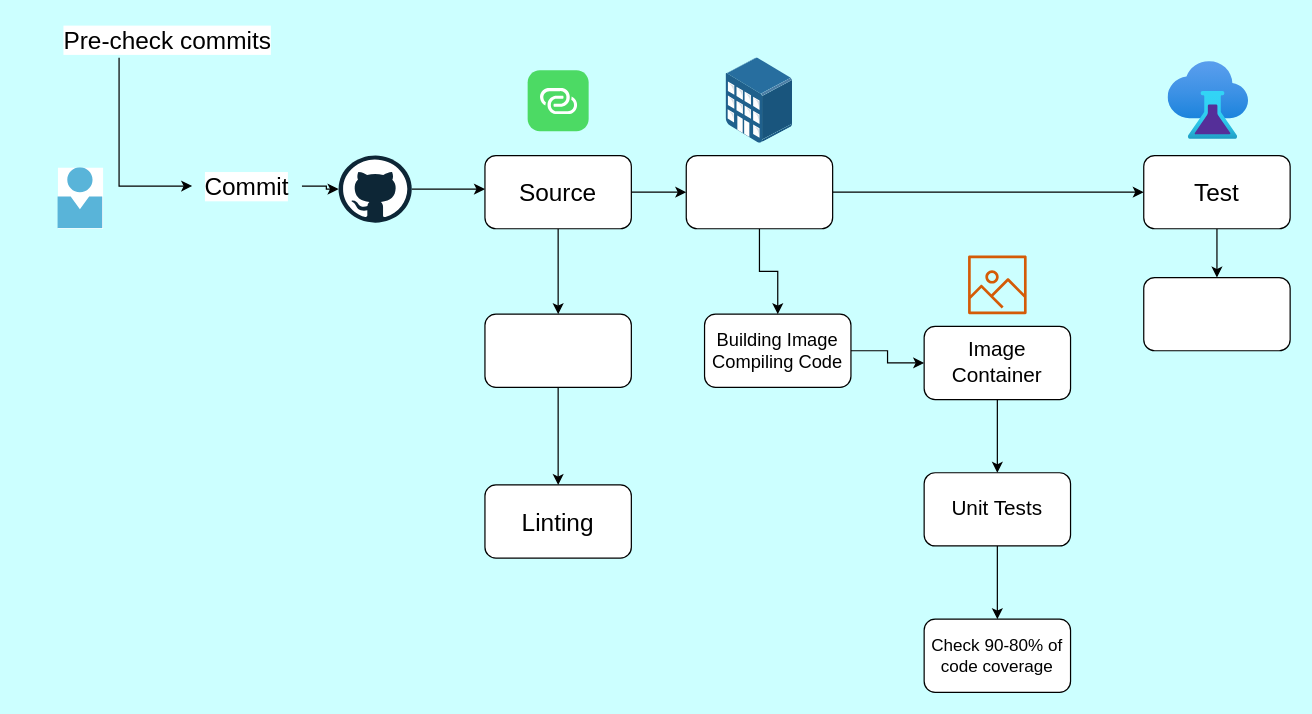
The diagram is 1312 pixels wide and 714 high, and some of its shapes have lost their labels. Here are the shapes that lost their labels. From the top down, the centre of each, then its label:
the point at 79,197: Developer
the point at 759,191: Build
the point at 1216,313: Integration Test
the point at 557,350: Branch Protection
